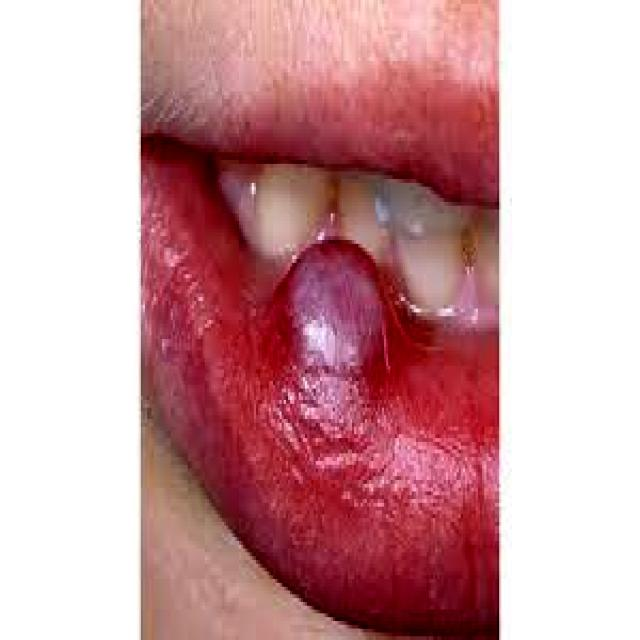ulcer: (282, 240, 384, 373)
